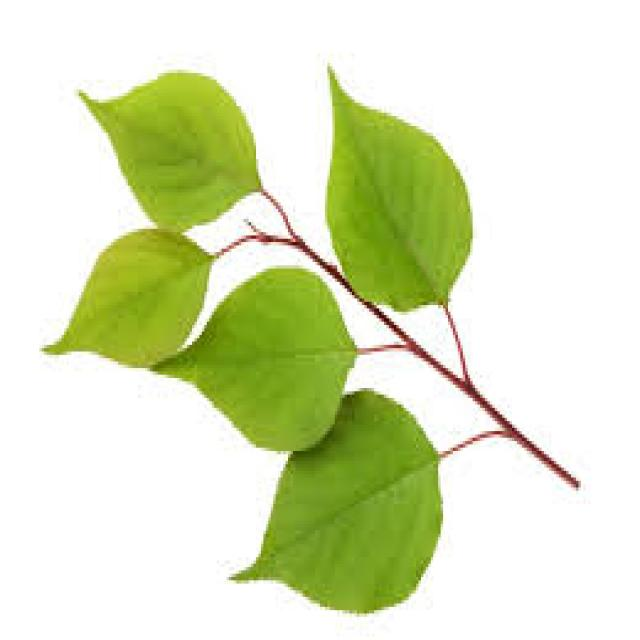yaprak: (24, 44, 606, 620)
